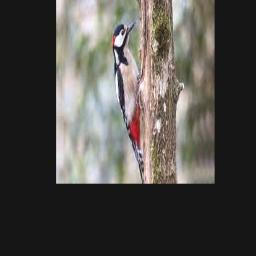Woodpecker: (113, 20, 144, 184)
